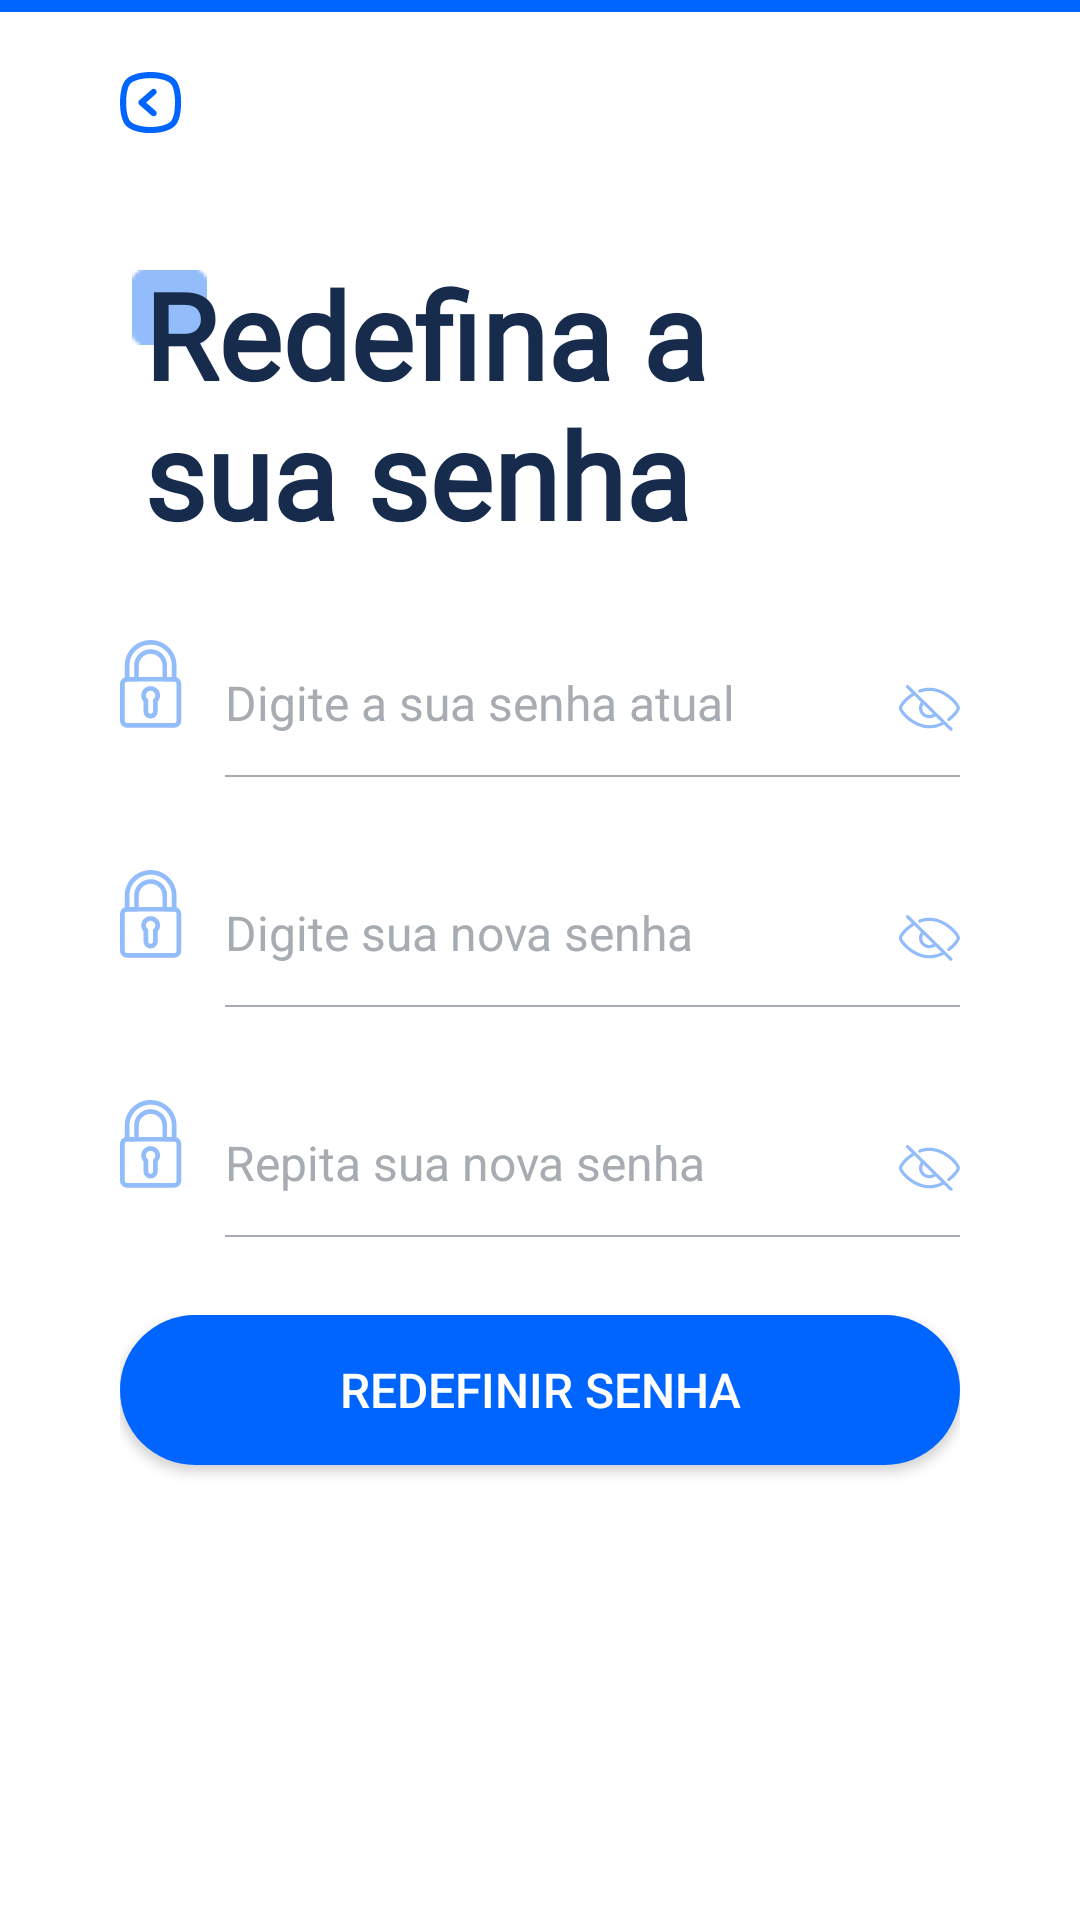

Named icons in this screenshot (1080x1920) and their bounding boxes, (x1, y1, x2, y2):
back: (120, 72, 182, 133)
esconde: (899, 685, 960, 731), (899, 915, 960, 961), (899, 1145, 960, 1191)
